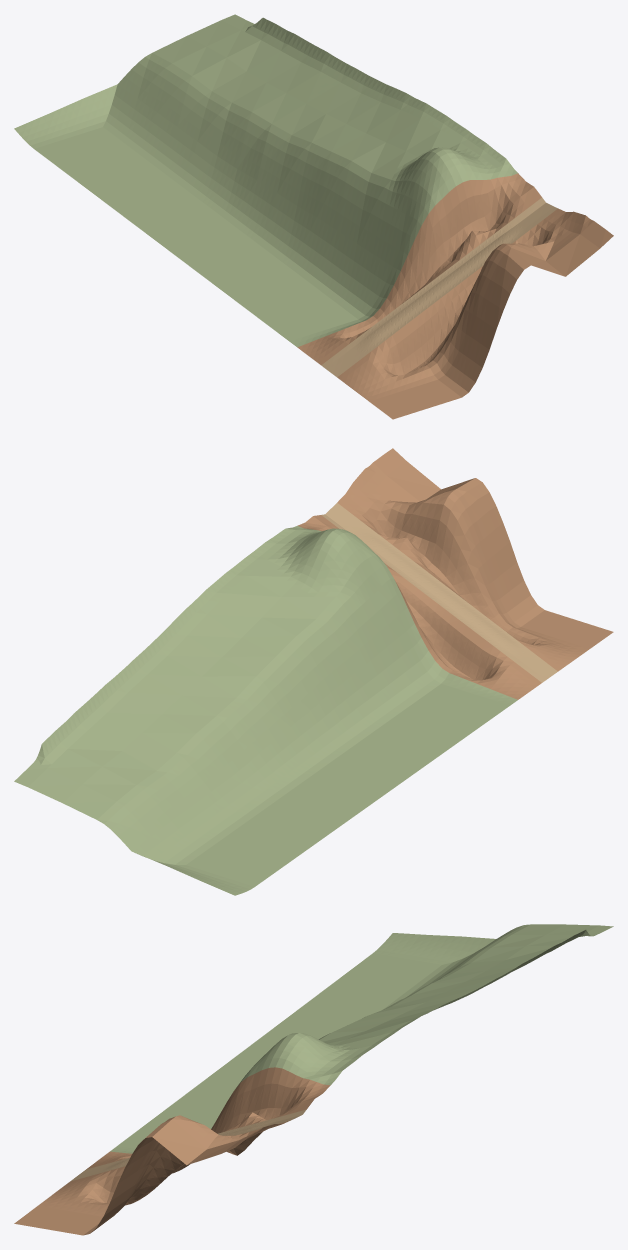
File: phase3g-inner.glb
3 renders of one model, top to bottom at view 1: azimuth 30°, elevation 25°; view 2: azimuth 150°, elevation 25°; view 3: azimuth 330°, elevation 25°, orthographic.
Parts seen in each view (by area): view 1: ic-bridge.surface.grass, ic-lookout.surface.grass, ic-bridge.surface.earth, ic-koguchi.surface.earth, ic-bridge.surface.path, ic-koguchi.surface.path, ic-lookout.surface.earth; view 2: ic-lookout.surface.grass, ic-bridge.surface.grass, ic-bridge.surface.earth, ic-koguchi.surface.earth, ic-bridge.surface.path, ic-koguchi.surface.path; view 3: ic-bridge.surface.grass, ic-lookout.surface.grass, ic-bridge.surface.earth, ic-koguchi.surface.earth, ic-lookout.surface.earth, ic-koguchi.surface.path.
Part boxes in pixels (bbox=[...]): ic-bridge.surface.grass: bbox=[14, 76, 407, 347]; ic-lookout.surface.grass: bbox=[125, 14, 517, 255]; ic-bridge.surface.earth: bbox=[297, 214, 613, 419]; ic-koguchi.surface.earth: bbox=[425, 177, 581, 295]; ic-bridge.surface.path: bbox=[321, 271, 460, 377]; ic-koguchi.surface.path: bbox=[446, 197, 557, 282]; ic-lookout.surface.earth: bbox=[408, 173, 521, 264]; ic-lookout.surface.grass: bbox=[14, 526, 407, 843]; ic-bridge.surface.grass: bbox=[125, 608, 517, 895]; ic-bridge.surface.earth: bbox=[361, 448, 613, 699]; ic-koguchi.surface.earth: bbox=[301, 474, 457, 605]; ic-bridge.surface.path: bbox=[418, 576, 557, 682]; ic-koguchi.surface.path: bbox=[321, 503, 433, 588]; ic-bridge.surface.grass: bbox=[110, 933, 500, 1153]; ic-lookout.surface.grass: bbox=[236, 924, 613, 1087]; ic-bridge.surface.earth: bbox=[14, 1104, 266, 1235]; ic-koguchi.surface.earth: bbox=[181, 1083, 326, 1164]; ic-lookout.surface.earth: bbox=[217, 1067, 330, 1121]; ic-koguchi.surface.path: bbox=[217, 1109, 306, 1135].
Bounding box in the file's own units: 32 × 20.23 × 95.
